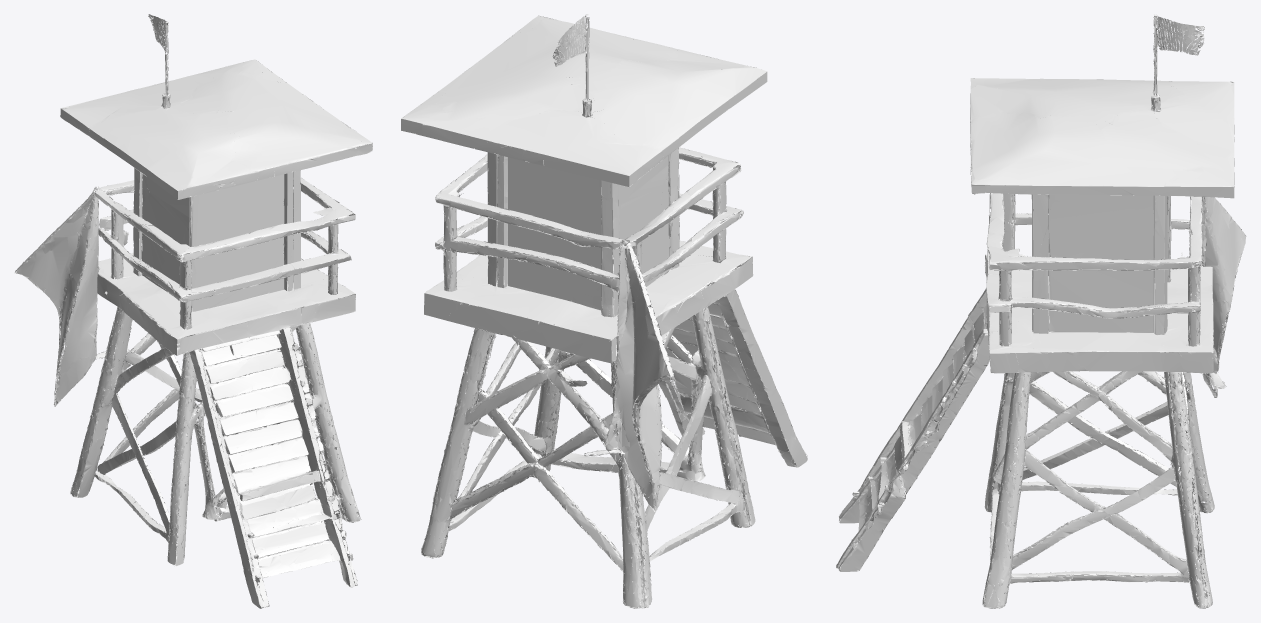
File: beach-lifeguard-tower.glb
The picture shows the model from 3 angles, left to right: view 1: azimuth 30°, elevation 25°; view 2: azimuth 150°, elevation 25°; view 3: azimuth 270°, elevation 25°; orthographic projection. The views are drawn at different scales.
Visible parts, largest first — view 1: model; view 2: model; view 3: model.
Boxes of the visible parts, x1=… form: model: x1=14, y1=14, x2=372, y2=608; model: x1=401, y1=14, x2=807, y2=608; model: x1=836, y1=14, x2=1246, y2=608.
Bounding box in the file's own units: 0.9911 × 1.89 × 1.33.
1 material, 1 textured.
